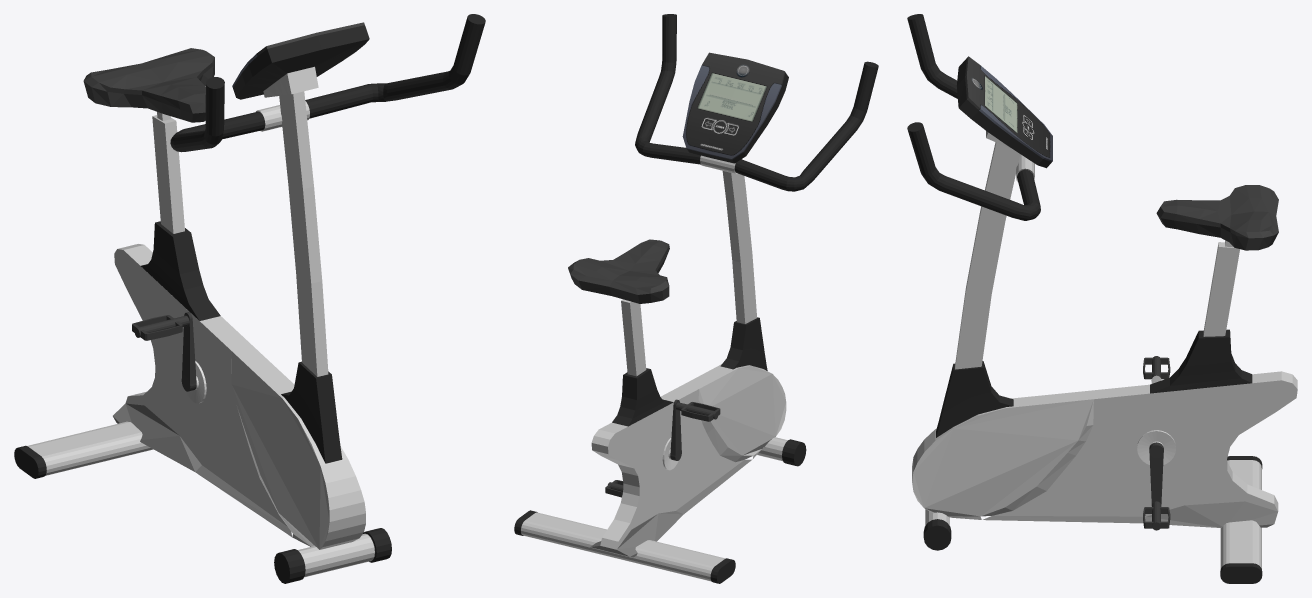
Rendered from sweethome3d-scopia-indoor-bike.glb.
3 renders of one model, left to right at view 1: azimuth 30°, elevation 25°; view 2: azimuth 150°, elevation 25°; view 3: azimuth 270°, elevation 25°, orthographic. The views are drawn at different scales.
Parts seen in each view (by area): view 1: Cylinder.002, Plane, Cylinder.006, Cylinder.003, Plane.002, Plane.001, Cylinder, Cylinder.001, Cylinder.004; view 2: Cylinder.002, Cylinder.006, Plane.003, Cylinder.003, Plane, Cylinder, Plane.002, Plane.001, Cylinder.004, Cylinder.001; view 3: Cylinder.002, Cylinder.006, Plane, Plane.001, Plane.002, Cylinder.003, Plane.003, Cylinder, Cylinder.005, Cylinder.001, Cylinder.004.
Part boxes in pixels (left/top/right/bottom): Cylinder.002: left=113, top=244, right=365, bottom=549; Plane: left=233, top=25, right=369, bottom=463; Cylinder.006: left=114, top=249, right=287, bottom=526; Cylinder.003: left=170, top=14, right=485, bottom=152; Plane.002: left=83, top=48, right=214, bottom=122; Plane.001: left=141, top=112, right=220, bottom=320; Cylinder: left=14, top=421, right=153, bottom=478; Cylinder.001: left=274, top=528, right=391, bottom=583; Cylinder.004: left=132, top=312, right=206, bottom=403; Cylinder.002: left=590, top=364, right=786, bottom=557; Cylinder.006: left=608, top=389, right=743, bottom=548; Plane.003: left=682, top=52, right=785, bottom=159; Cylinder.003: left=635, top=14, right=878, bottom=191; Plane: left=687, top=72, right=788, bottom=370; Cylinder: left=514, top=510, right=735, bottom=583; Plane.002: left=568, top=239, right=669, bottom=303; Plane.001: left=612, top=299, right=673, bottom=426; Cylinder.004: left=662, top=399, right=720, bottom=470; Cylinder.001: left=757, top=437, right=806, bottom=466; Cylinder.002: left=912, top=371, right=1297, bottom=527; Cylinder.006: left=992, top=380, right=1297, bottom=516; Plane: left=936, top=58, right=1051, bottom=437; Plane.001: left=1150, top=240, right=1252, bottom=393; Plane.002: left=1156, top=185, right=1278, bottom=250; Cylinder.003: left=907, top=14, right=1040, bottom=220; Plane.003: left=965, top=56, right=1052, bottom=161; Cylinder: left=1220, top=456, right=1262, bottom=583; Cylinder.005: left=1137, top=430, right=1175, bottom=530; Cylinder.001: left=923, top=509, right=951, bottom=550; Cylinder.004: left=1143, top=356, right=1170, bottom=383.
Bounding box in the file's own units: 71.85 × 131 × 101.
Materials: 7 (1 with a texture image).
